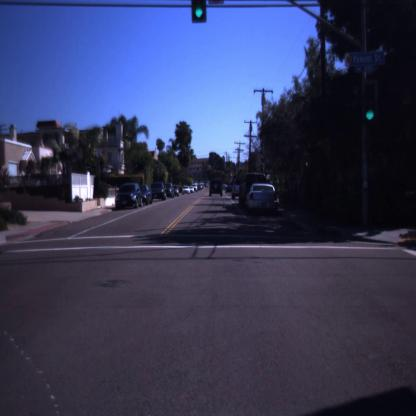trafficlight: (361, 82, 378, 125), (190, 0, 208, 27)
